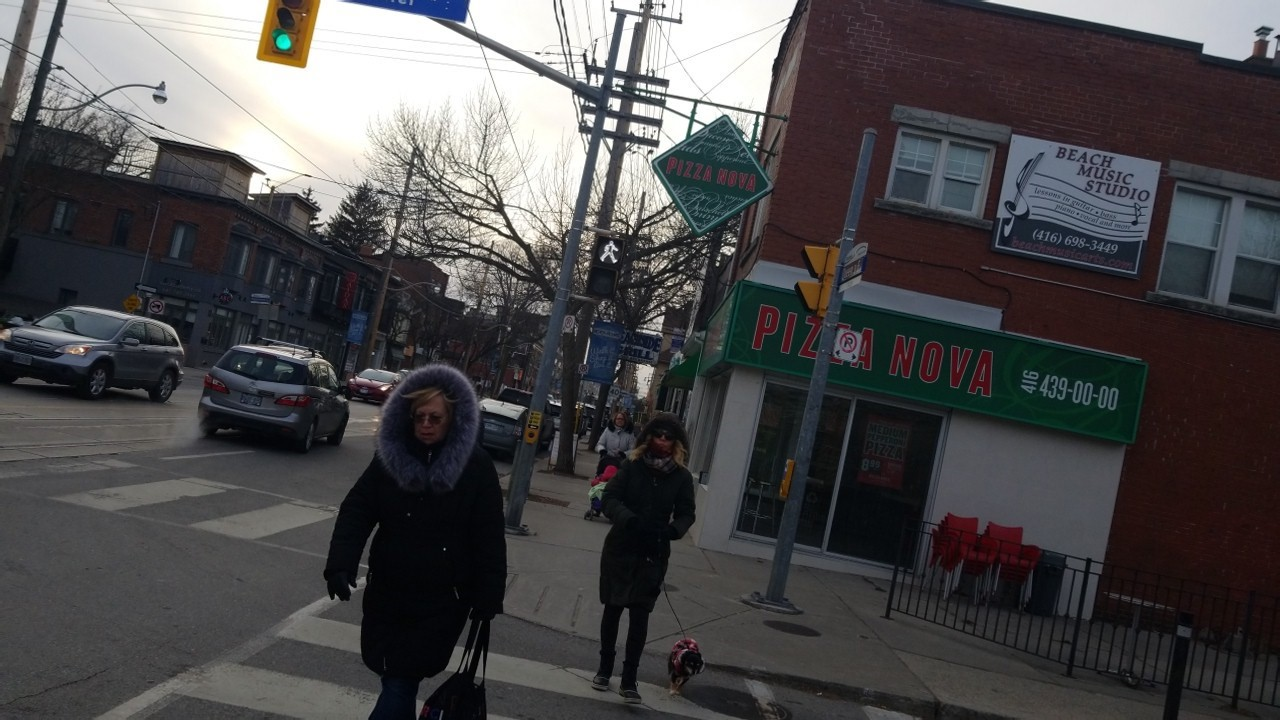light: (580, 230, 635, 304)
